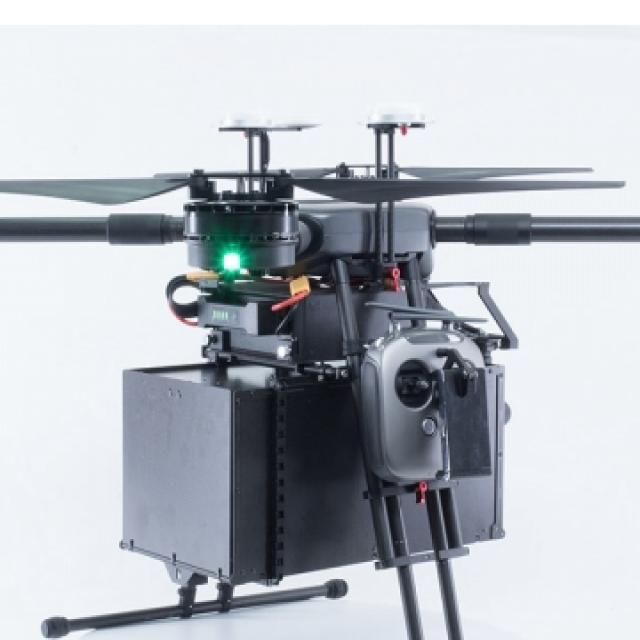drone: (0, 98, 640, 392)
